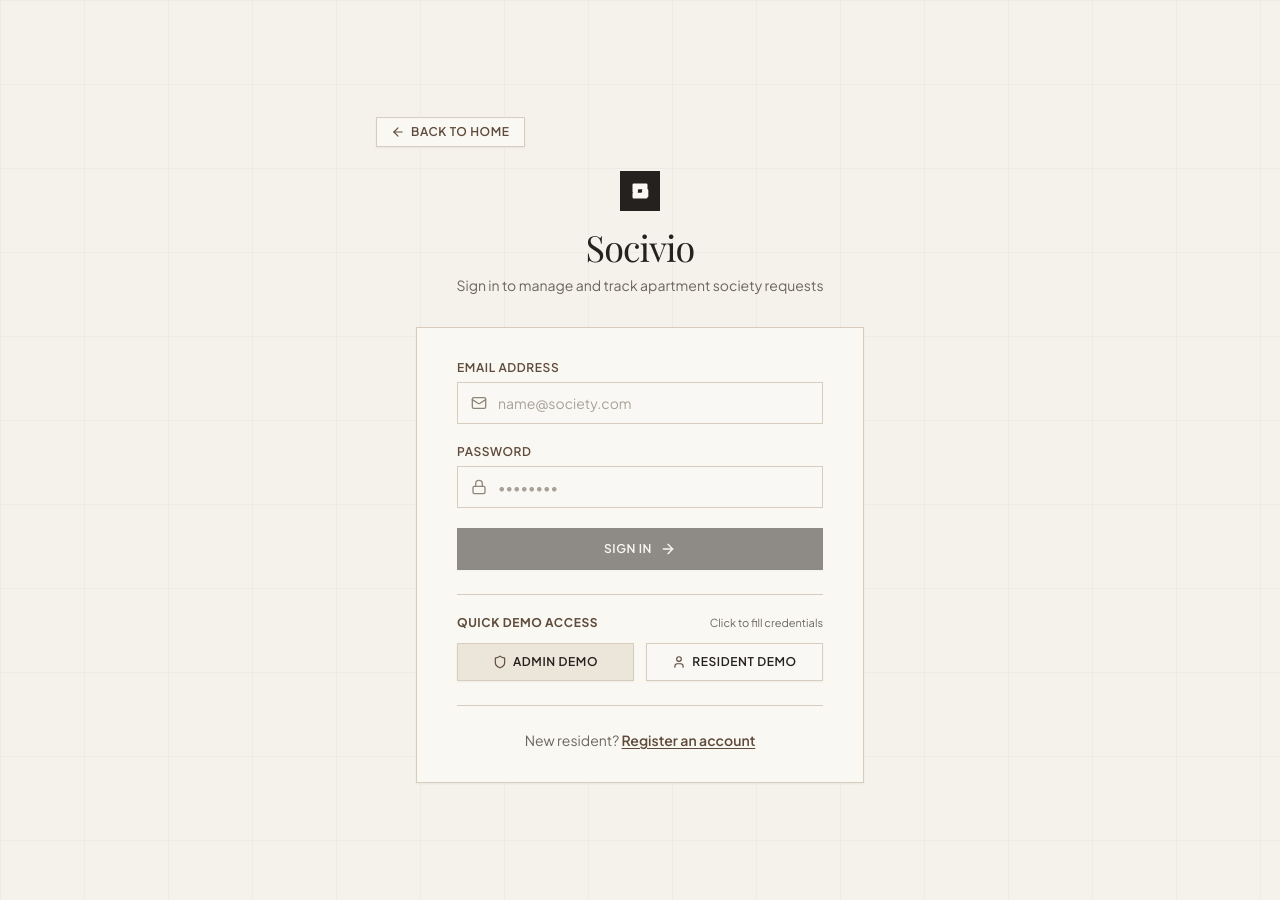
Test case: Auth & Protected Routing › clicking Admin Demo button fills credentials into form without auto-submitting
Expected: the field labelled "Email Address" is empty, [457,382,823,424]
Expected: the password field labelled "Password" is empty, [457,466,823,508]
Click Admin Demo button
What coordinates should you click on to do the following:
click the button "Admin Demo"
I would click on:
 (546, 662)
Its box is [457,643,634,681].
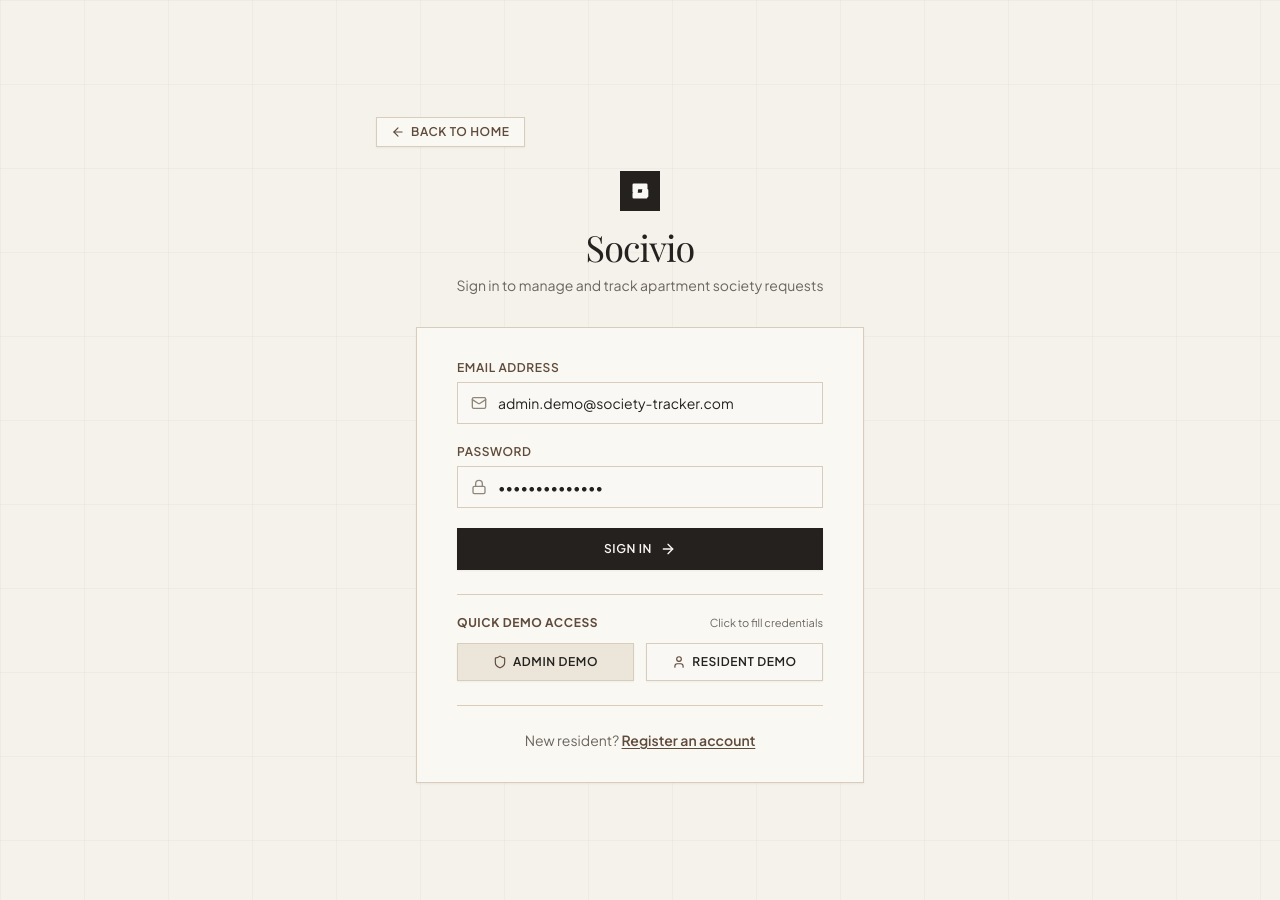
Now the field labelled "Email Address" holds "admin.demo@society-tracker.com", box [457,382,823,424]
Now the password field labelled "Password" holds "DemoAdmin@2026", box [457,466,823,508]
